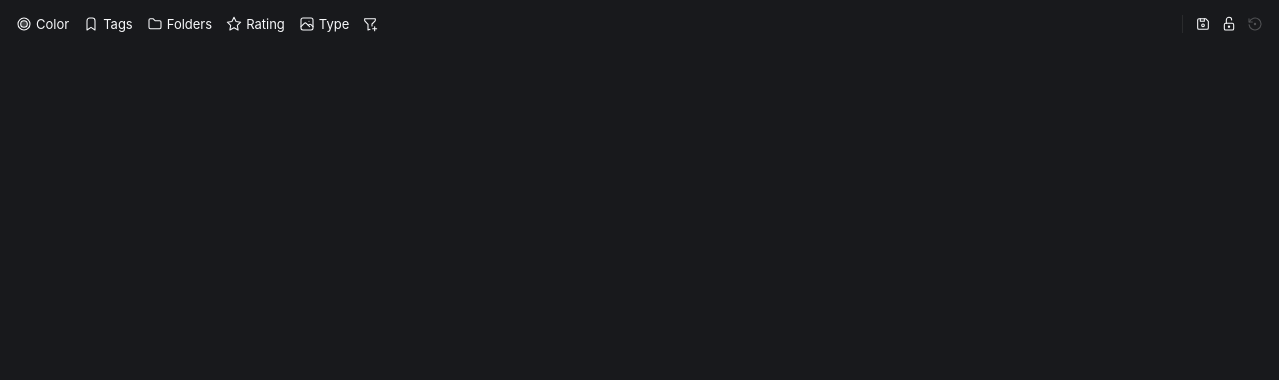
it: GridFilterToolbar › renders default filters as a dedicated pinned row
The width and height of the screenshot is (1279, 380).
Expected: the button "Color" is shown, [16,16,69,32]
Expected: the button "Tags" is shown, [83,16,133,32]
Click the button named "Add filter" at (370, 24), box [358,12,382,36]
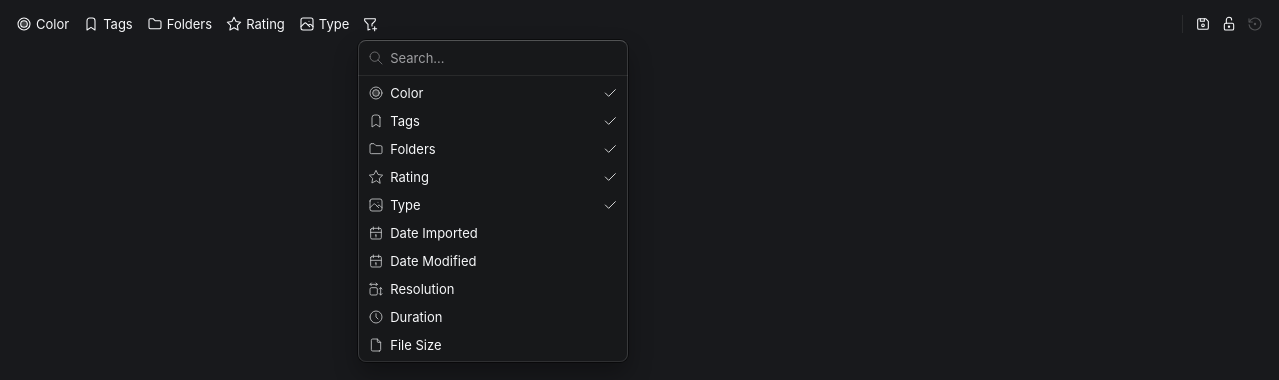
Result: the text "Date Imported" is shown at [390,225,478,241]
Result: the text "Date Modified" is shown at [390,253,476,269]
Result: the text "Resolution" is shown at [390,281,454,297]
